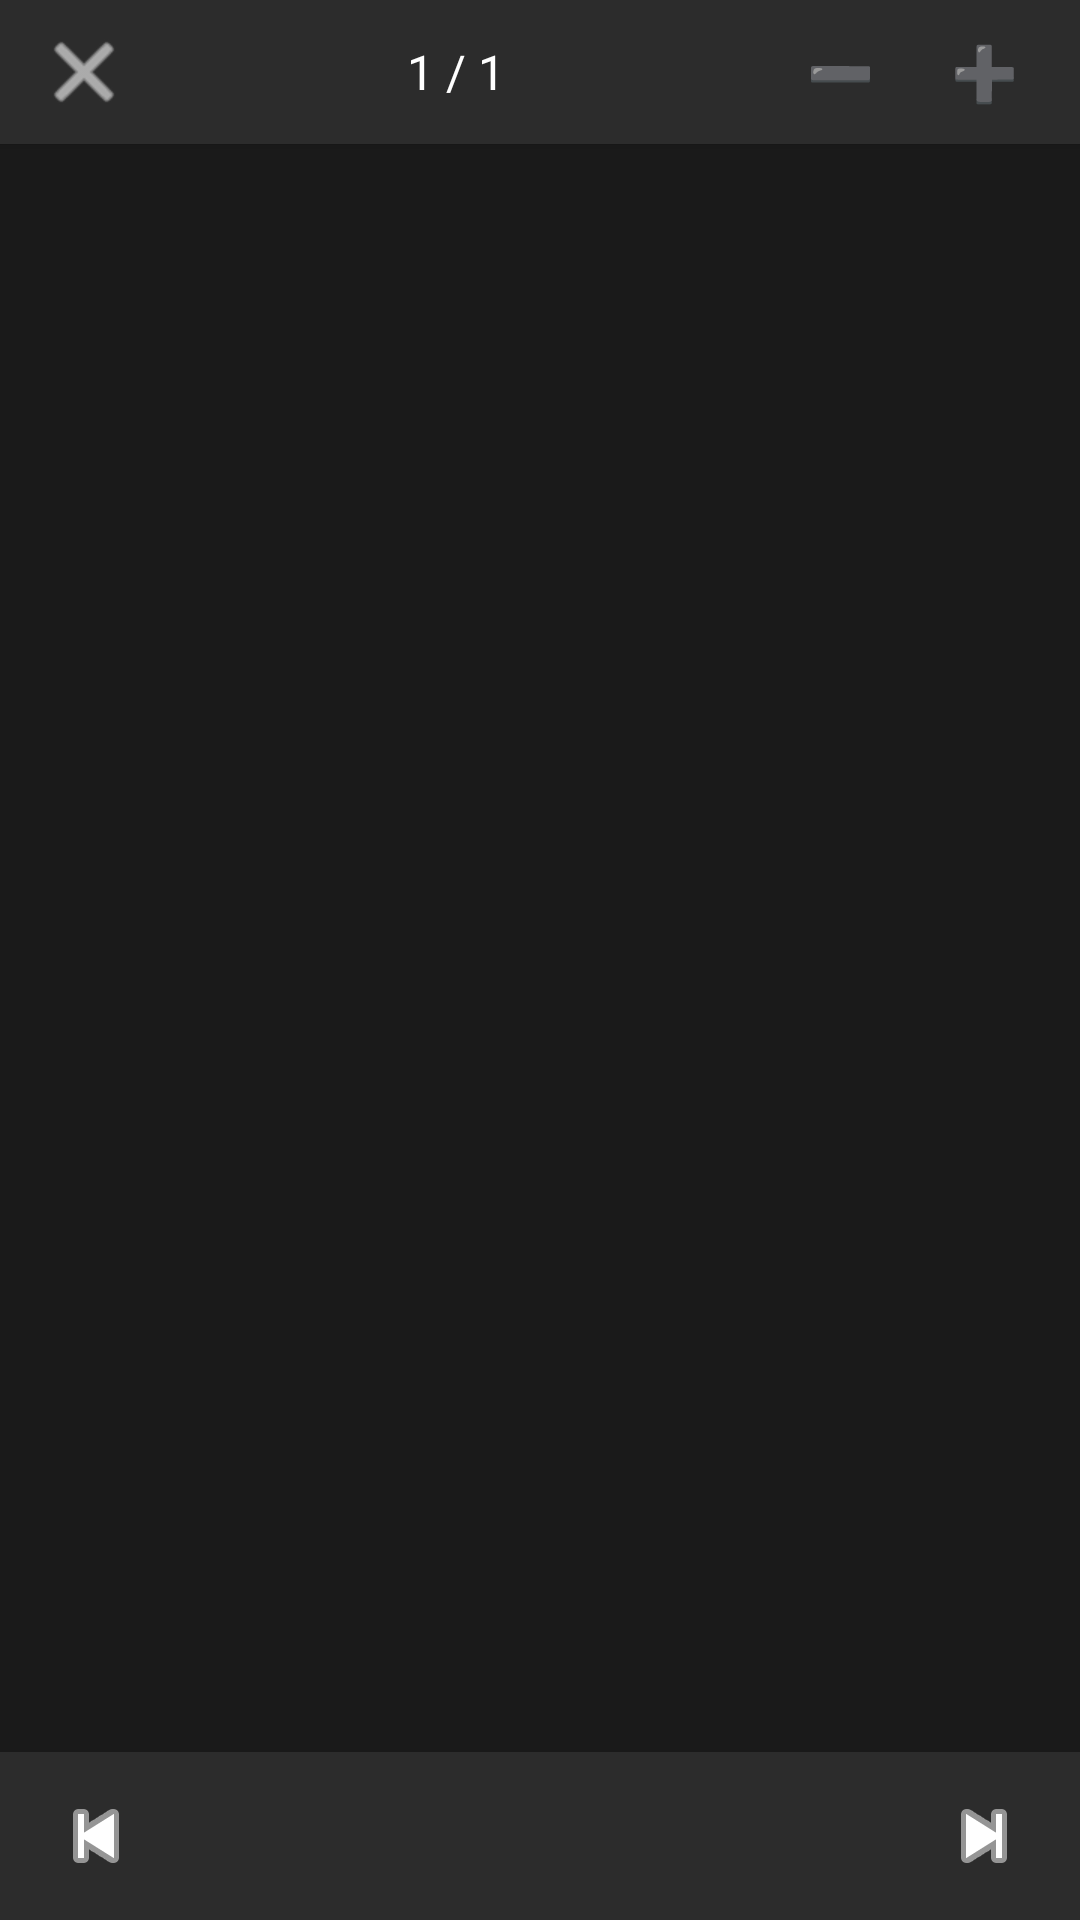

Where to tap for icons on this 1080×1920 app screen, as (x,y):
Close: (84,72)
Next Page: (984,1836)
Previous Page: (96,1836)
